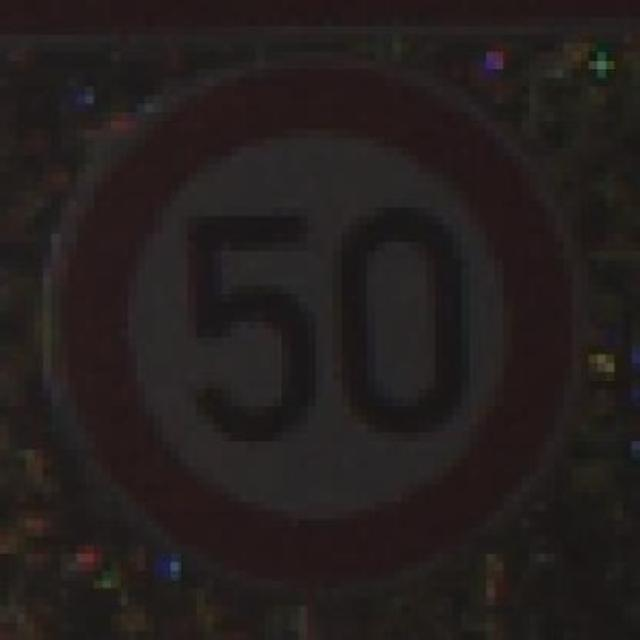forb_speed_over_50: (53, 65, 582, 589)
